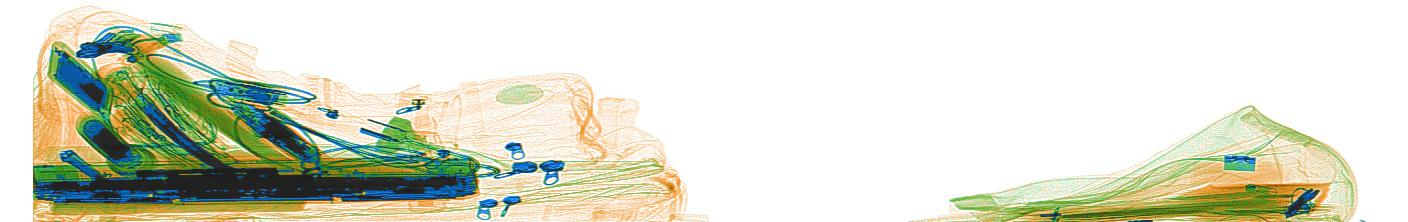battery: (81, 117, 130, 164)
